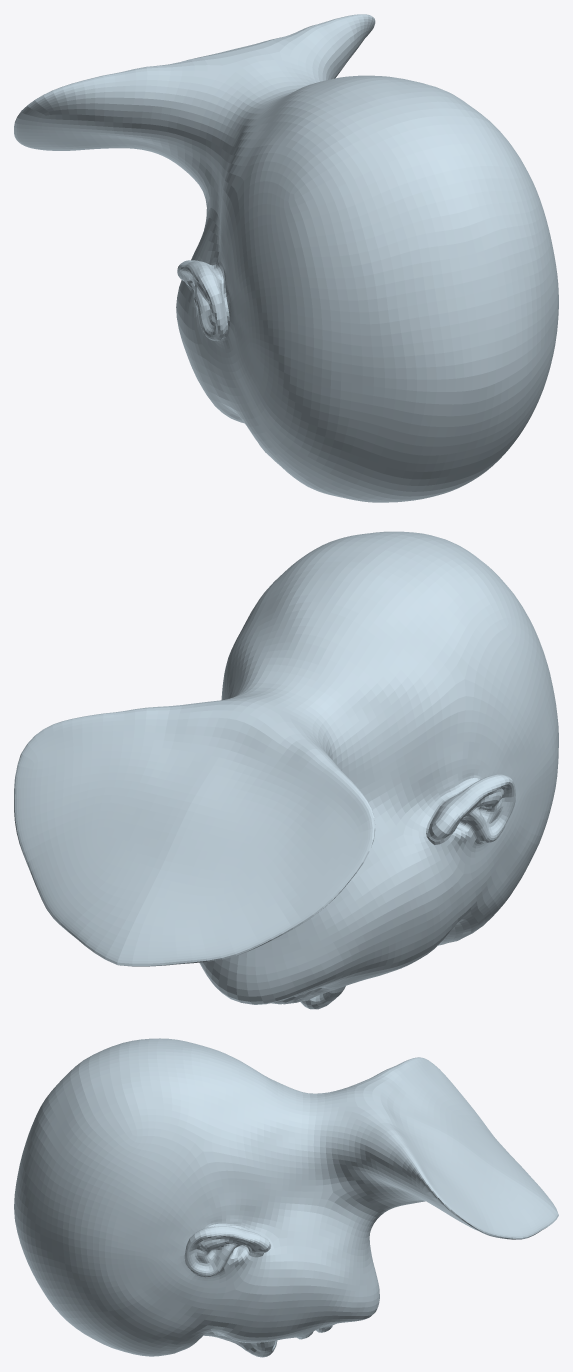
The model's file is lady.glb.
3 views of the same model, one above another, from view 1: azimuth 30°, elevation 25°; view 2: azimuth 150°, elevation 25°; view 3: azimuth 270°, elevation 25° (orthographic). The views are drawn at different scales.
Parts seen in each view (by area): view 1: lady; view 2: lady; view 3: lady.
Part boxes in pixels (x1,y1,x2,y2): lady: (14, 14, 558, 502); lady: (14, 531, 558, 1009); lady: (14, 1038, 558, 1357).
Bounding box in the file's own units: 3098 × 3410 × 5530.
